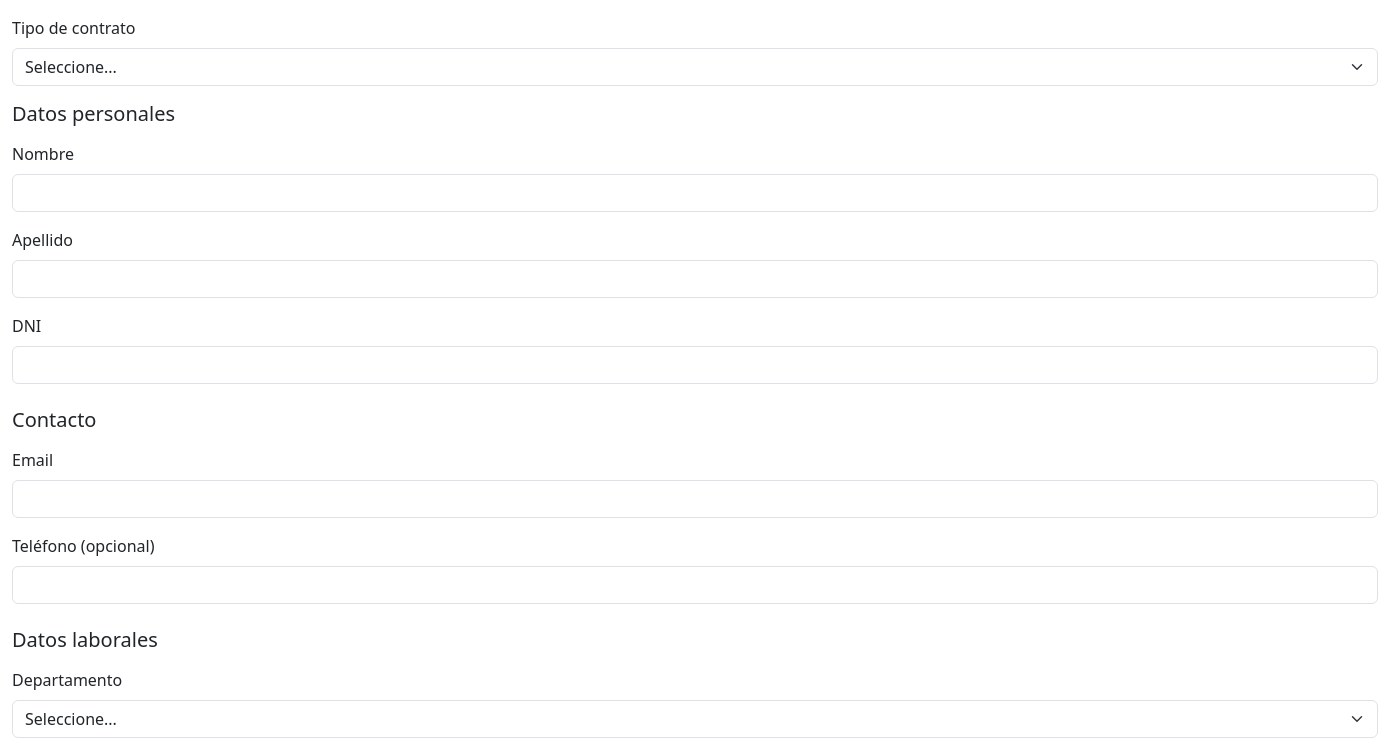
it: TERCIARIZADO oculta campos de empleado y muestra factura y servicio
The image size is (1390, 744).
Select "TERCIARIZADO" in the dropdown labelled "Tipo de contrato" at x=695, y=67, box [12,48,1378,86]
(page scrolled)
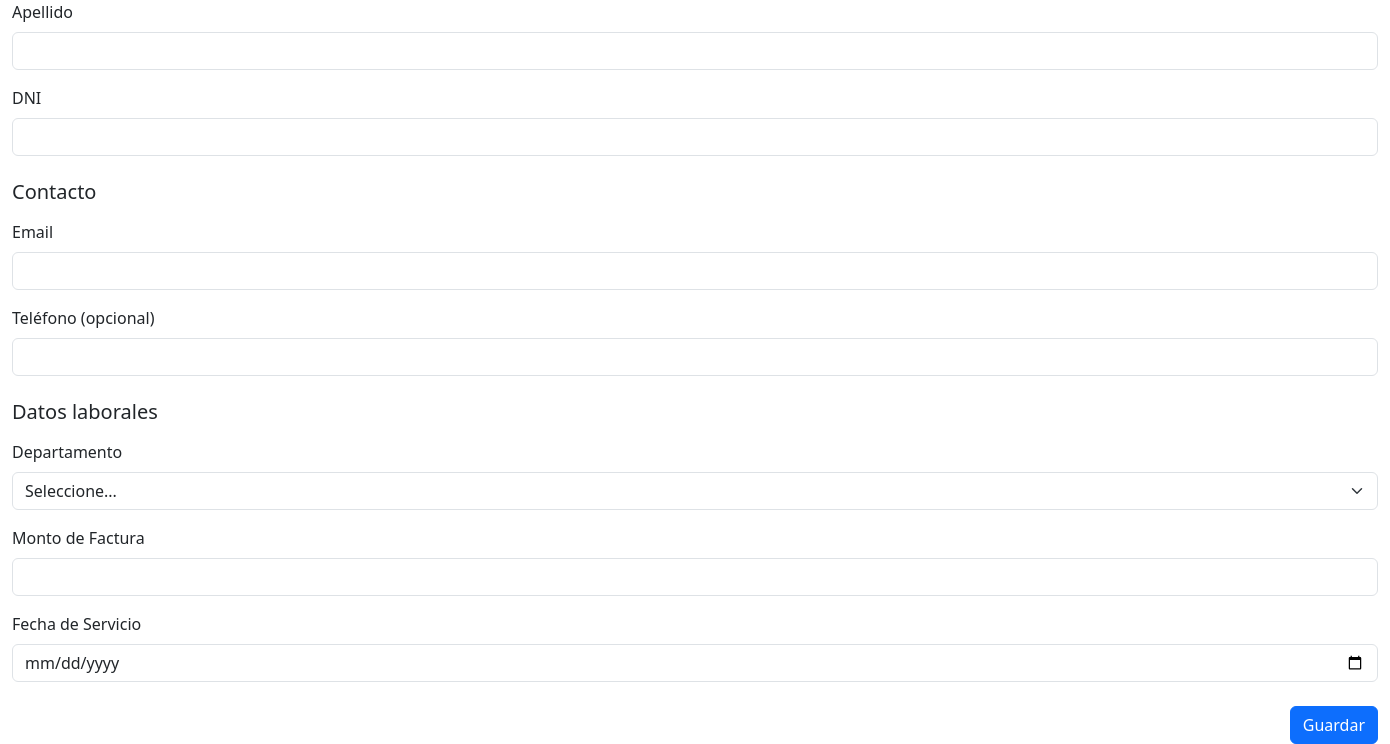
Result: the number field labelled "Monto de Factura" is shown at [12,558,1378,596]
Result: the date field labelled "Fecha de Servicio" is shown at [12,644,1378,682]
